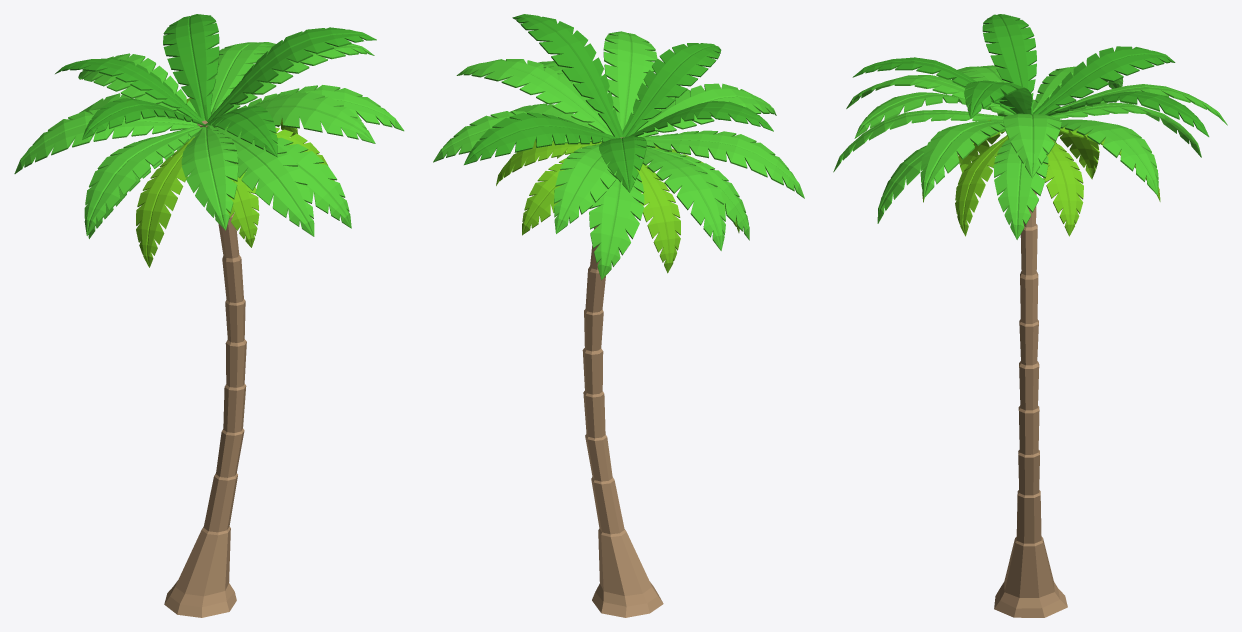
File: Palm_Tree_Thin.fbx
3 views of the same model, side by side, from view 1: azimuth 30°, elevation 25°; view 2: azimuth 150°, elevation 25°; view 3: azimuth 270°, elevation 25° (orthographic). The views are drawn at different scales.
Visible parts, largest first — view 1: Palm Tree Thin; view 2: Palm Tree Thin; view 3: Palm Tree Thin.
Boxes of the visible parts, <box> form: Palm Tree Thin: <box>14,14,404,617</box>; Palm Tree Thin: <box>433,14,804,617</box>; Palm Tree Thin: <box>833,14,1227,617</box>.
Size of the model in its own units: 239 by 394 by 247.
